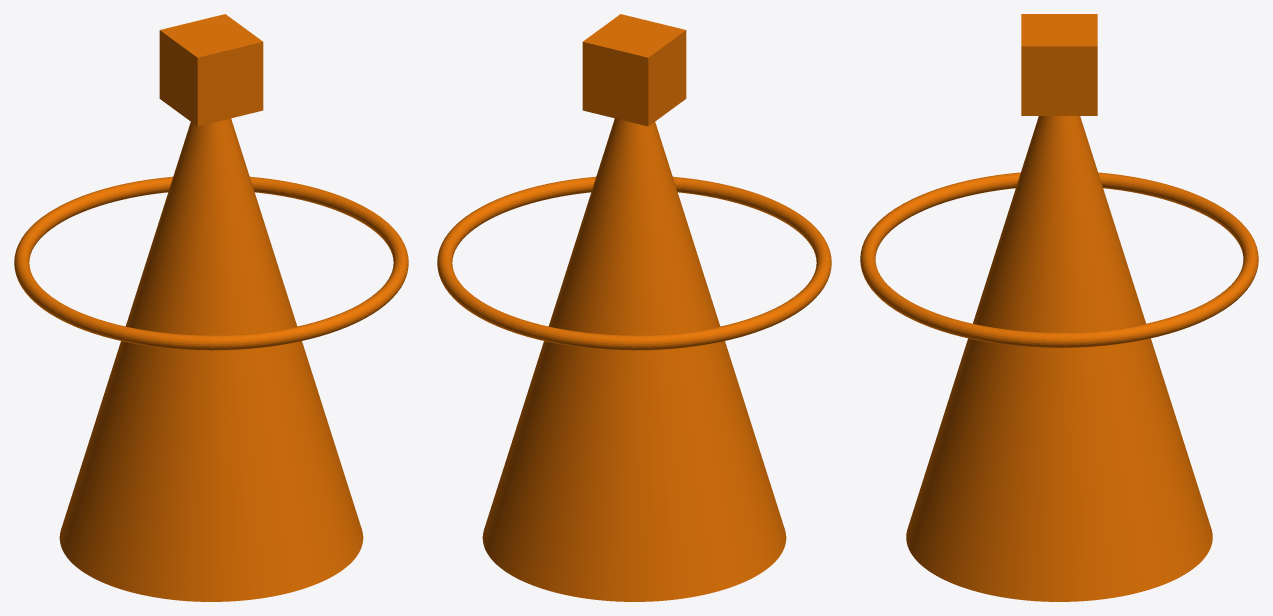
The model's file is PoneOrange.fbx.
The picture shows the model from 3 angles, left to right: view 1: azimuth 30°, elevation 25°; view 2: azimuth 150°, elevation 25°; view 3: azimuth 270°, elevation 25°; orthographic projection.
Visible parts, largest first — view 1: Pone; view 2: Pone; view 3: Pone.
Part boxes in pixels (x1=…): Pone: x1=14, y1=14, x2=408, y2=601; Pone: x1=437, y1=14, x2=831, y2=601; Pone: x1=860, y1=14, x2=1258, y2=601.
Bounding box in the file's own units: 260 × 365 × 260.
